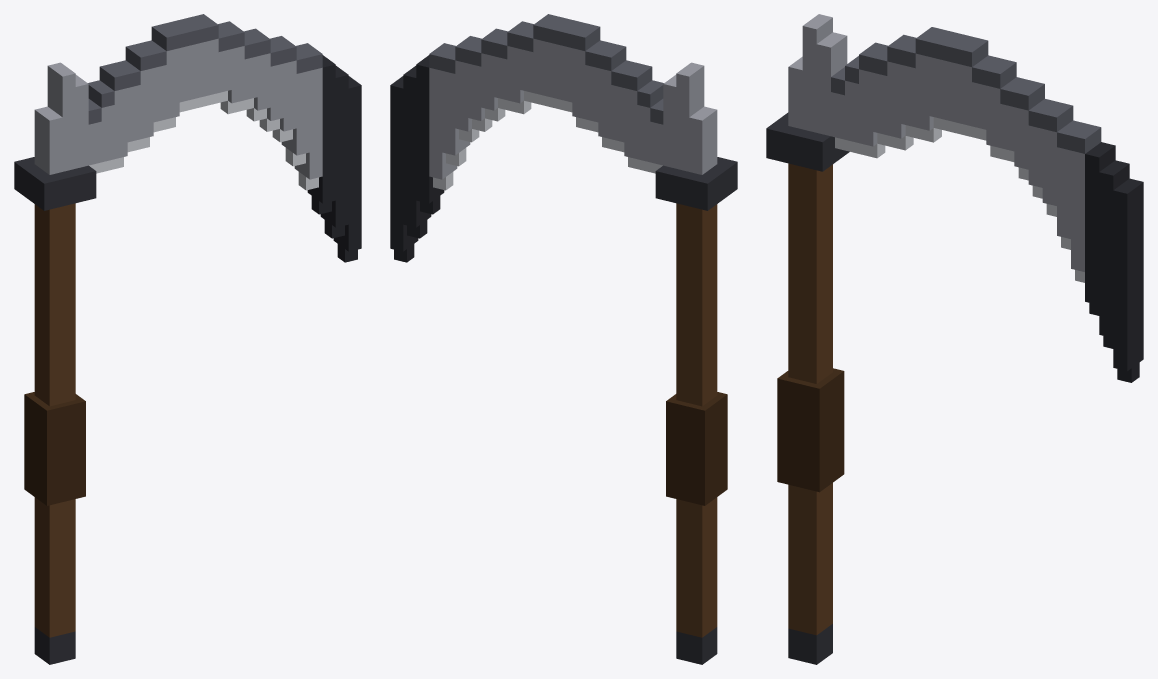
The model's file is scythe.glb.
3 renders of one model, left to right at view 1: azimuth 30°, elevation 25°; view 2: azimuth 150°, elevation 25°; view 3: azimuth 330°, elevation 25°, orthographic. The views are drawn at different scales.
Parts seen in each view (by area): view 1: reaper_scythe; view 2: reaper_scythe; view 3: reaper_scythe.
Boxes of the visible parts, x1=… form: reaper_scythe: x1=14, y1=14, x2=361, y2=664; reaper_scythe: x1=390, y1=14, x2=737, y2=664; reaper_scythe: x1=766, y1=14, x2=1143, y2=664.
Bounding box in the file's own units: 1.56 × 2.75 × 0.25.
